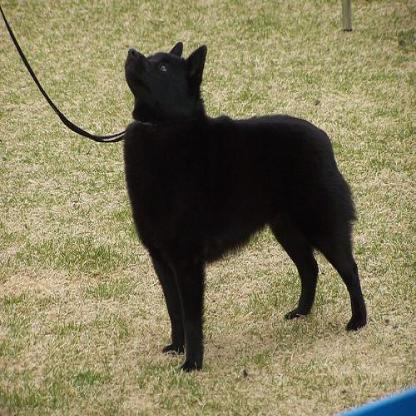schipperke: (77, 38, 380, 356)
